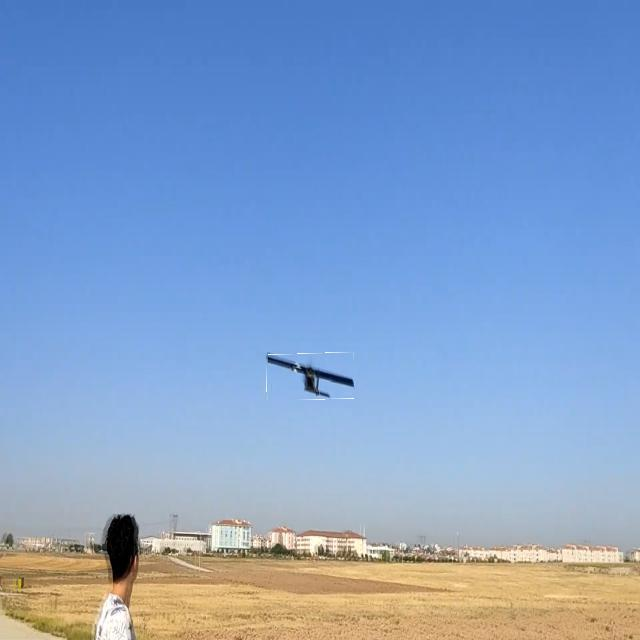iha: (298, 354, 322, 399)
